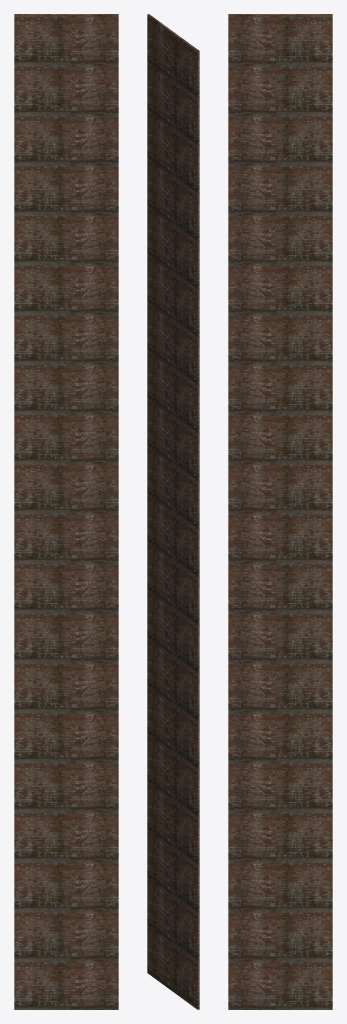
File: tunnel_Wall_Huge1_GEO.fbx
3 views of the same model, side by side, from view 1: azimuth 90°, elevation 25°; view 2: azimuth 210°, elevation 25°; view 3: azimuth 270°, elevation 25° (orthographic). The views are drawn at different scales.
Visible parts, largest first — view 1: tunnel_Wall_Huge1_GEO; view 2: tunnel_Wall_Huge1_GEO; view 3: tunnel_Wall_Huge1_GEO.
Boxes of the visible parts, box(x1,y1,x2,y2) form: tunnel_Wall_Huge1_GEO: box(14, 14, 118, 1009); tunnel_Wall_Huge1_GEO: box(147, 14, 199, 1009); tunnel_Wall_Huge1_GEO: box(228, 14, 332, 1009).
Size of the model in its own units: 0.1999 by 105 by 10.
